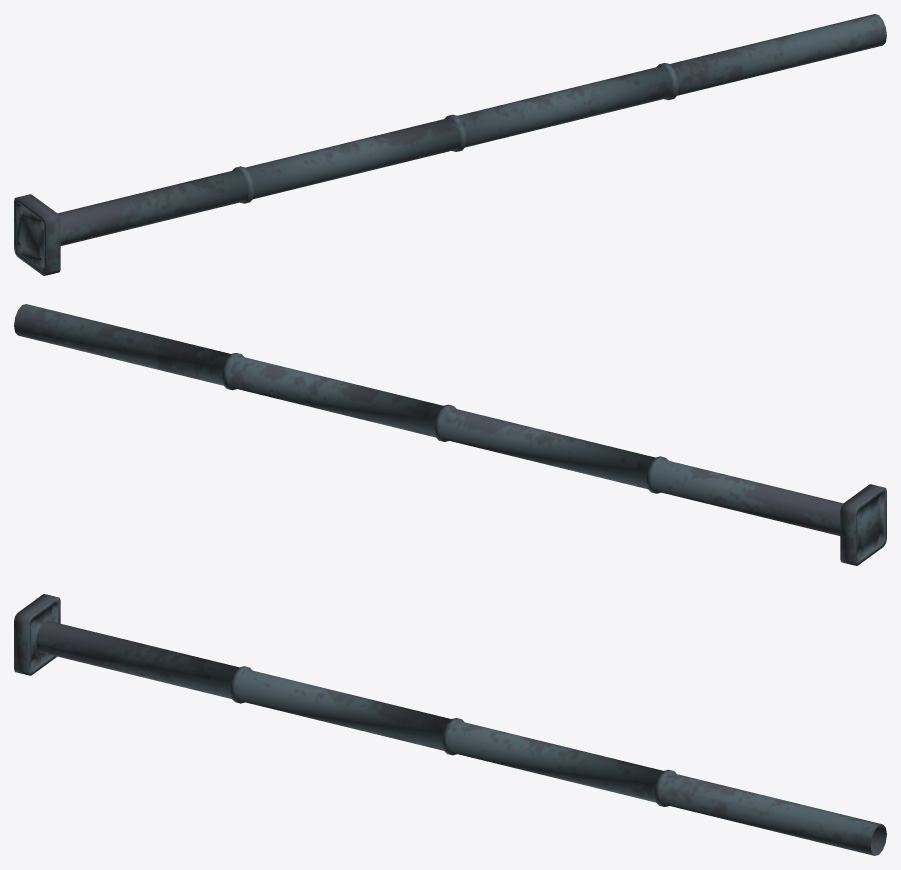
Rendered from CanoPequeno.fbx.
The picture shows the model from 3 angles, top to bottom: view 1: azimuth 30°, elevation 25°; view 2: azimuth 150°, elevation 25°; view 3: azimuth 330°, elevation 25°; orthographic projection.
Visible parts, largest first — view 1: CanoPequeno; view 2: CanoPequeno; view 3: CanoPequeno.
Part boxes in pixels (x1,y1,x2,y2): CanoPequeno: [14, 14, 886, 275]; CanoPequeno: [14, 304, 886, 565]; CanoPequeno: [14, 594, 886, 855].
Size of the model in its own units: 600 by 39.94 by 39.94.
